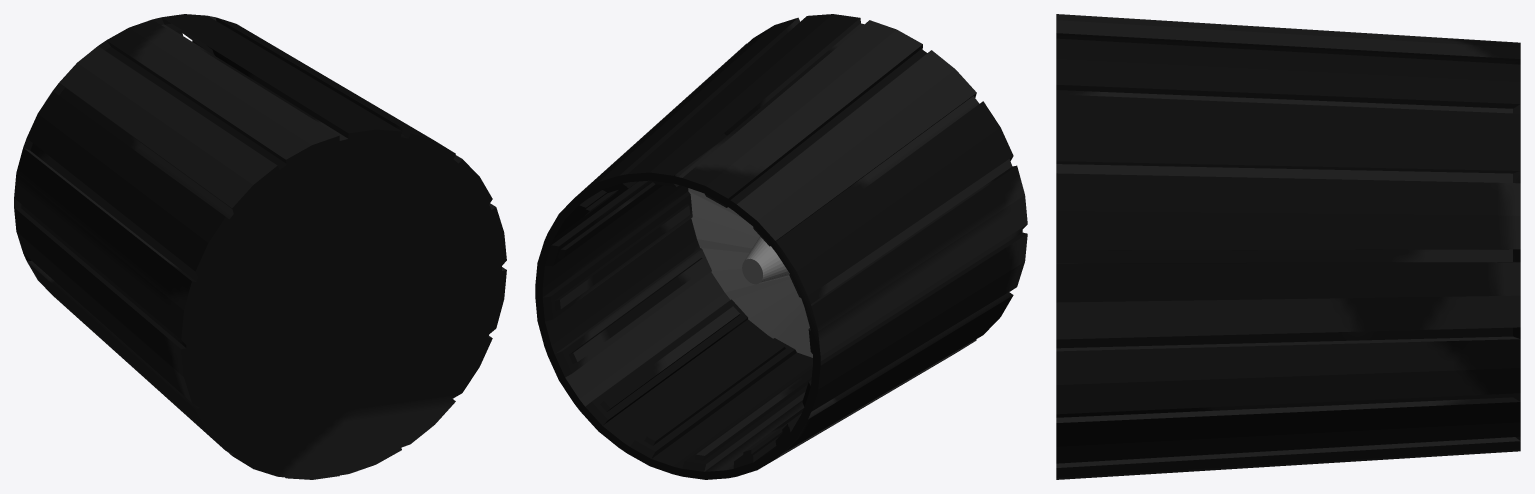
The model's file is 2_Thruster.fbx.
The picture shows the model from 3 angles, left to right: view 1: azimuth 30°, elevation 25°; view 2: azimuth 150°, elevation 25°; view 3: azimuth 270°, elevation 25°; orthographic projection. The views are drawn at different scales.
Parts seen in each view (by area): view 1: 2_Thrsuter; view 2: 2_Thrsuter; view 3: 2_Thrsuter.
Boxes of the visible parts, x1,y1,x2,y2 form: 2_Thrsuter: (14, 14, 506, 479); 2_Thrsuter: (535, 14, 1027, 479); 2_Thrsuter: (1056, 14, 1520, 479).
Bounding box in the file's own units: 0.331 × 0.331 × 0.3298.
1 material, 1 textured.
